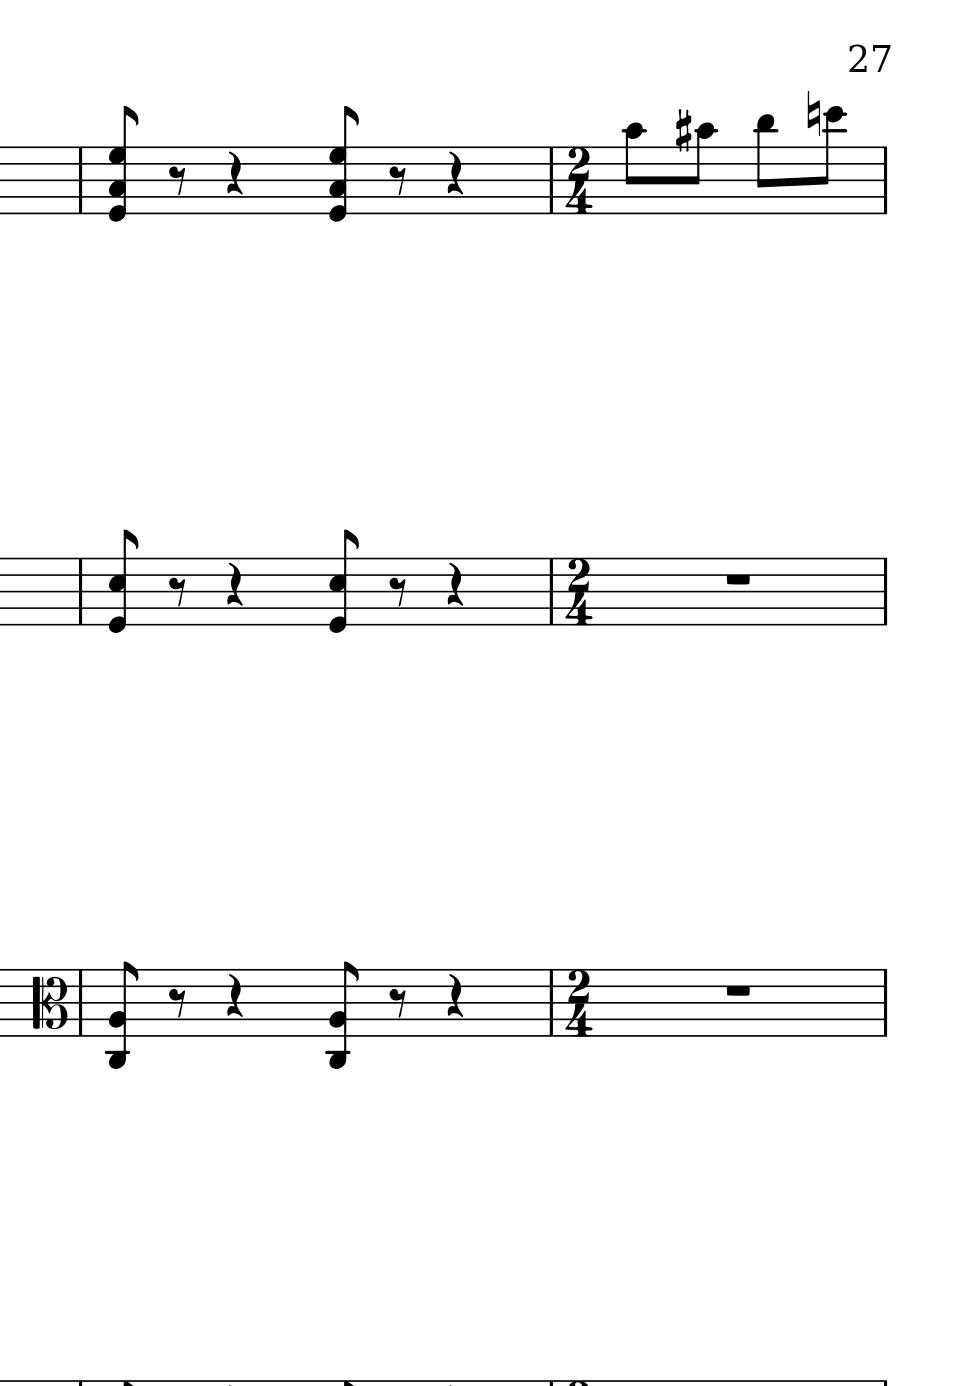2: (564, 144, 593, 182), (565, 555, 593, 594), (565, 967, 593, 1003), (846, 43, 869, 74)
4: (564, 1003, 593, 1038), (564, 181, 594, 214), (564, 593, 593, 626)
7: (870, 41, 891, 75)
8_-3_2: (323, 962, 361, 1071), (105, 958, 141, 1070)
8_0_5: (106, 529, 141, 635), (327, 528, 361, 633)
8_10: (686, 121, 717, 216), (622, 121, 646, 216)
8_11: (754, 112, 778, 216)
8_12: (813, 104, 845, 216)
8_th: (106, 102, 139, 225), (326, 104, 358, 226)
Cclef: (30, 968, 71, 1037)
Natural: (805, 88, 821, 137)
Rests1: (721, 980, 754, 999), (721, 569, 755, 587)
Rests4: (222, 561, 245, 609), (443, 561, 465, 610), (223, 151, 244, 198), (223, 972, 244, 1020), (443, 973, 465, 1021), (444, 150, 465, 198)
Rests8: (386, 986, 410, 1021), (386, 575, 410, 609), (386, 164, 410, 197), (167, 164, 189, 197), (167, 575, 189, 608), (167, 987, 189, 1020)
Sharp: (673, 107, 692, 154)
Single_barline: (544, 558, 561, 625), (876, 558, 893, 625), (876, 969, 893, 1036), (72, 148, 89, 213), (876, 148, 893, 213), (544, 147, 560, 214), (544, 969, 560, 1036), (72, 970, 88, 1036), (72, 559, 88, 624)
TimeSig: (564, 146, 594, 216), (564, 557, 593, 627), (564, 968, 593, 1038)
